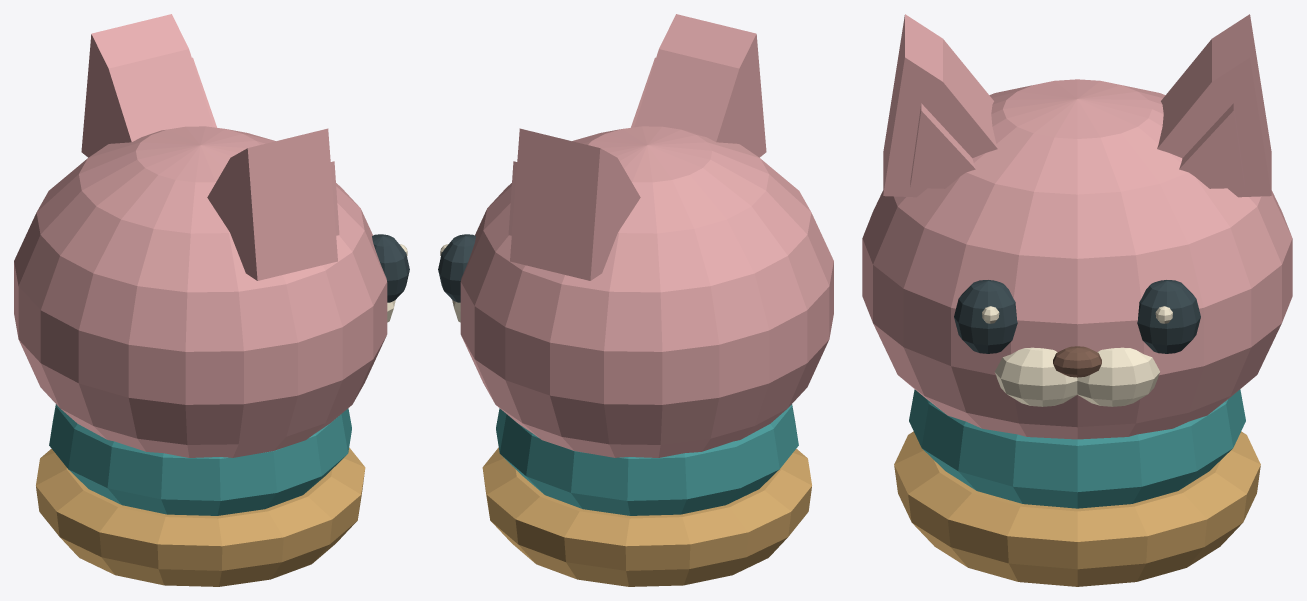
The model's file is SM_Pinball_Recruit4.fbx.
3 renders of one model, left to right at view 1: azimuth 30°, elevation 25°; view 2: azimuth 150°, elevation 25°; view 3: azimuth 270°, elevation 25°, orthographic. The views are drawn at different scales.
Visible parts, largest first — view 1: SM_Pinball_Recruit4; view 2: SM_Pinball_Recruit4; view 3: SM_Pinball_Recruit4.
Boxes of the visible parts, bbox=[...] form: SM_Pinball_Recruit4: bbox=[14, 14, 409, 586]; SM_Pinball_Recruit4: bbox=[438, 14, 833, 586]; SM_Pinball_Recruit4: bbox=[862, 14, 1292, 586].
Size of the model in its own units: 56 by 55.35 by 69.7.
